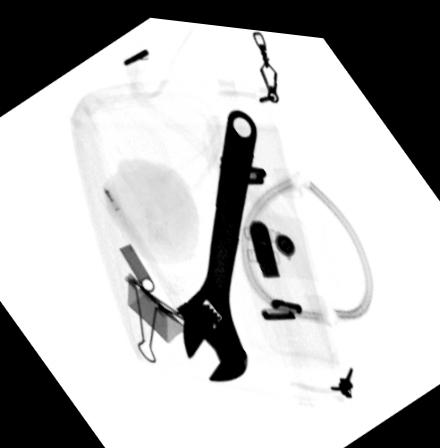Wrench: (174, 100, 259, 377)
